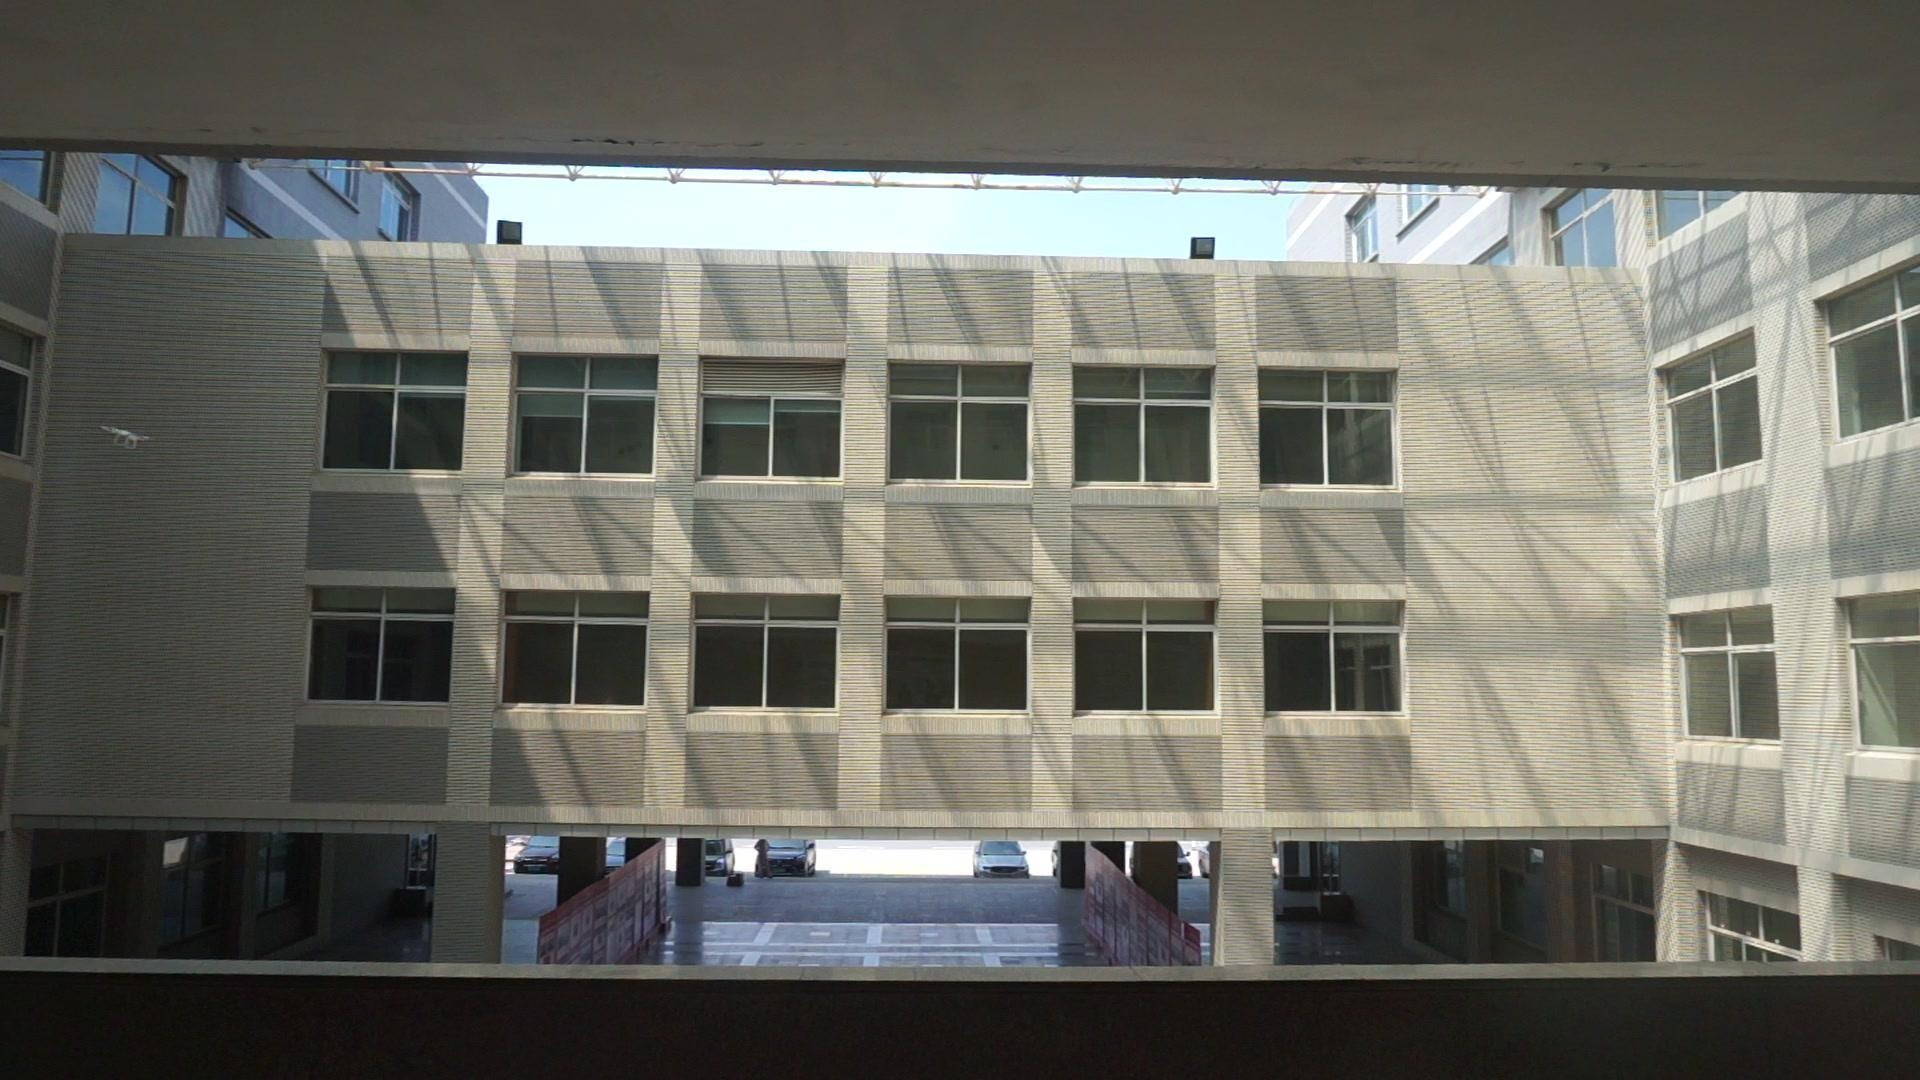UAV: (102, 427, 150, 448)
